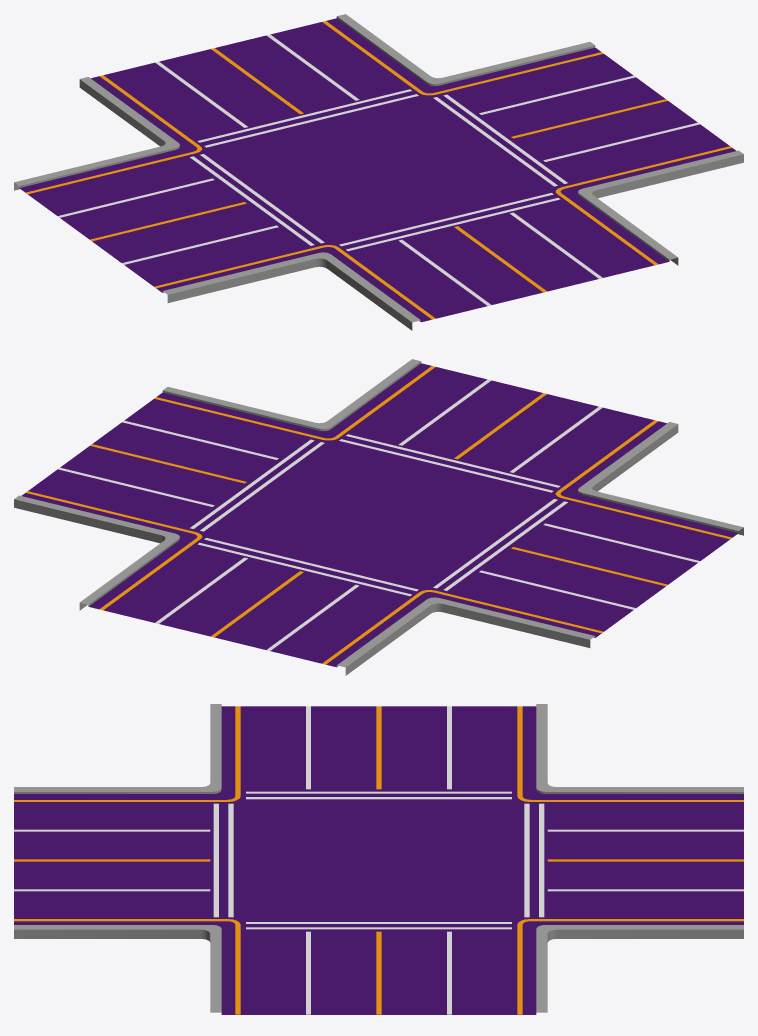
The model's file is Road_C_2L_2_6.fbx.
3 renders of one model, top to bottom at view 1: azimuth 30°, elevation 25°; view 2: azimuth 150°, elevation 25°; view 3: azimuth 270°, elevation 25°, orthographic. The views are drawn at different scales.
Parts seen in each view (by area): view 1: Road_C_2L_2_6; view 2: Road_C_2L_2_6; view 3: Road_C_2L_2_6.
Part boxes in pixels (x1,y1,x2,y2): Road_C_2L_2_6: (14,14,743,330); Road_C_2L_2_6: (14,359,743,675); Road_C_2L_2_6: (14,704,743,1014).
Bounding box in the file's own units: 2975 × 41.48 × 2975.
